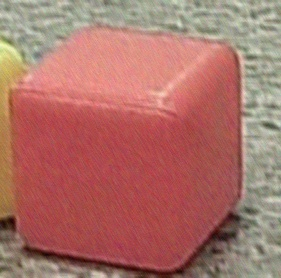orange_cube: (6, 16, 249, 278)
